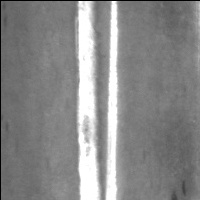scratches: (73, 1, 109, 200), (103, 2, 120, 200)
